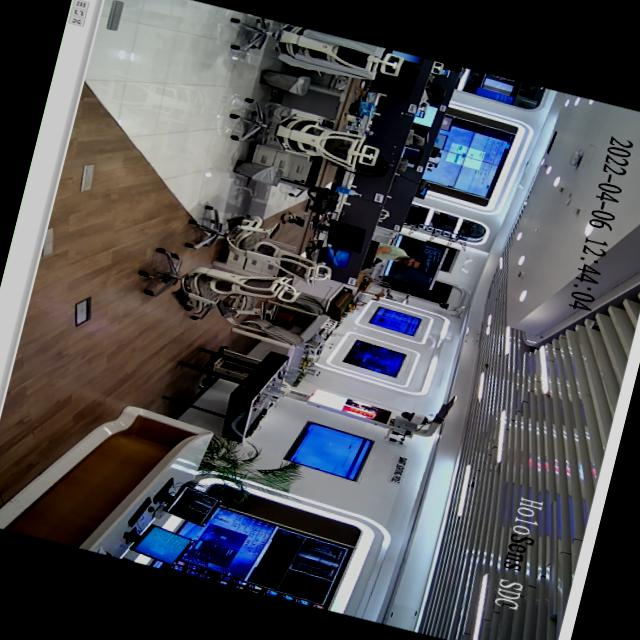long weapon: (354, 253, 386, 277)
